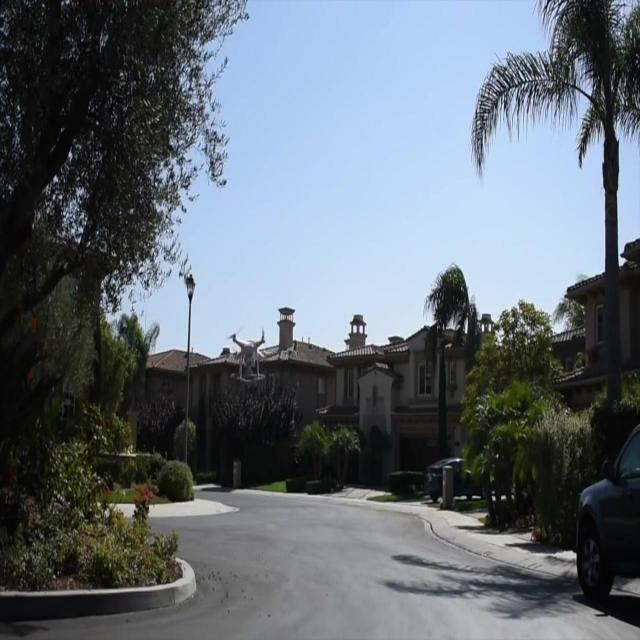UAV: (226, 327, 266, 382)
